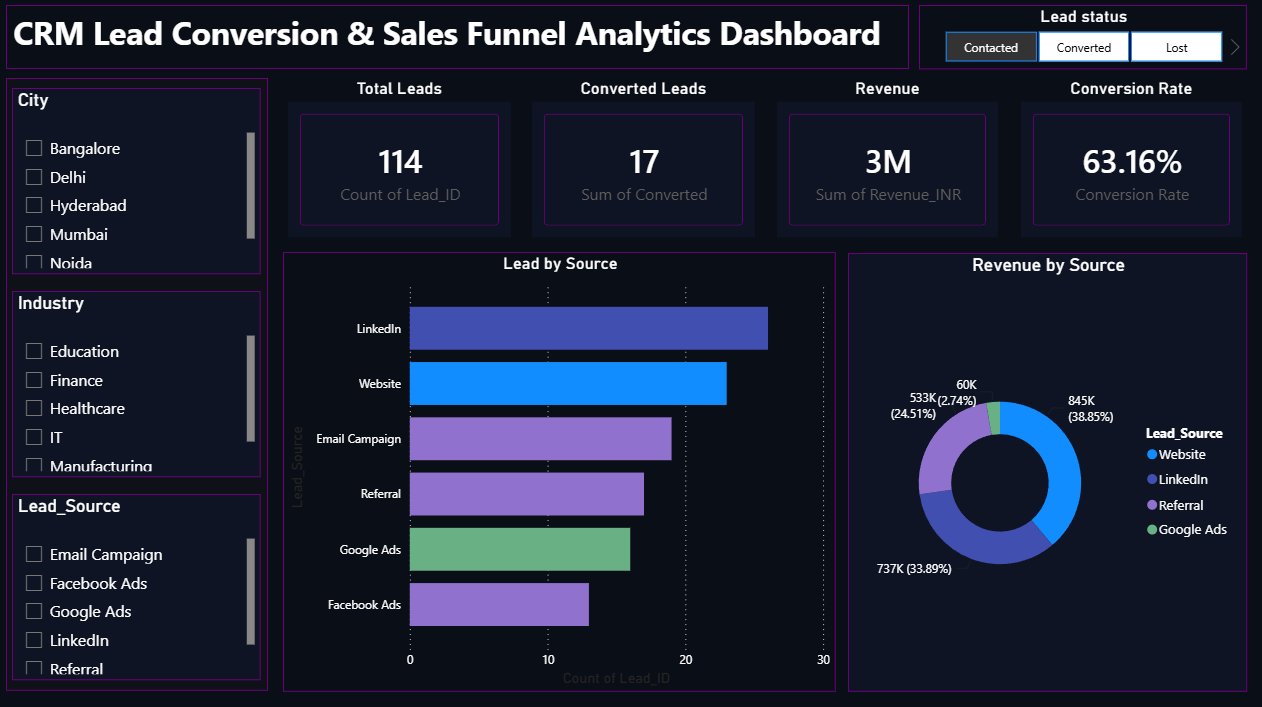

What the dashboard file says about the page in this screenshot:
{"tool":"powerbi","page":{"name":"CRM lead conversion and funnel Analytics Dashboard","canvas":[1280,720],"ordinal":0},"visuals":[{"type":"textbox","box":[9.1,7.1,890.3,63.6],"z":0},{"type":"shape","box":[9.1,7.1,911.5,64.6],"z":1000},{"type":"shape","box":[8.8,80.7,264.6,618.6],"z":2000},{"type":"slicer","title":"City","fields":{"Values":["Leadss.City"]},"box":[15.6,90.5,250.9,187.7],"z":3000},{"type":"slicer","title":"Industry","fields":{"Values":["Leadss.Industry"]},"box":[15.6,295.7,250.9,187.7],"z":4000},{"type":"slicer","title":"Lead_Source","fields":{"Values":["Leadss.Lead_Source"]},"box":[15.6,500.9,250.9,187.7],"z":5000},{"type":"cardVisual","title":"Total Leads","fields":{"Data":["CountNonNull(Leadss.Lead_ID)"]},"box":[288.7,80.8,235.2,166.6],"z":6000},{"type":"cardVisual","title":"Converted Leads","fields":{"Data":["Sum(Conversions.Converted)"]},"box":[535,80.8,235.2,166.6],"z":7000},{"type":"cardVisual","title":"Revenue","fields":{"Data":["Sum(Conversions.Revenue_INR)"]},"box":[782.3,80.8,233.2,166.6],"z":8000},{"type":"cardVisual","title":"Conversion Rate","fields":{"Data":["Ads.Conversion Rate"]},"box":[1028.6,80.8,233.2,166.6],"z":9000},{"type":"clusteredBarChart","title":"Lead by Source","fields":{"Y":["CountNonNull(Followups.Lead_ID)"],"Category":["Leadss.Lead_Source"]},"box":[288.7,256.4,558.2,444.2],"z":10000},{"type":"donutChart","title":"Revenue by Source","fields":{"Y":["Sum(Conversions.Revenue_INR)"],"Category":["Leadss.Lead_Source"]},"box":[859.1,257.4,402.8,443.2],"z":11000},{"type":"slicer","title":"Lead status","fields":{"Values":["Followups.Response"]},"box":[930.7,7.1,331.1,73.7],"z":12000}]}

Visuals, with their boxes in screenshot pixels (x1, y1, x2, y2), scaled from the page's 1280x720 canvas onto the 1262x707 screenshot:
textbox: [9,7,887,69]
shape: [9,7,908,70]
shape: [9,79,270,687]
"City" slicer: [15,89,263,273]
"Industry" slicer: [15,290,263,475]
"Lead_Source" slicer: [15,492,263,676]
"Total Leads" cardVisual: [285,79,517,243]
"Converted Leads" cardVisual: [527,79,759,243]
"Revenue" cardVisual: [771,79,1001,243]
"Conversion Rate" cardVisual: [1014,79,1244,243]
"Lead by Source" clusteredBarChart: [285,252,835,688]
"Revenue by Source" donutChart: [847,253,1244,688]
"Lead status" slicer: [918,7,1244,79]
